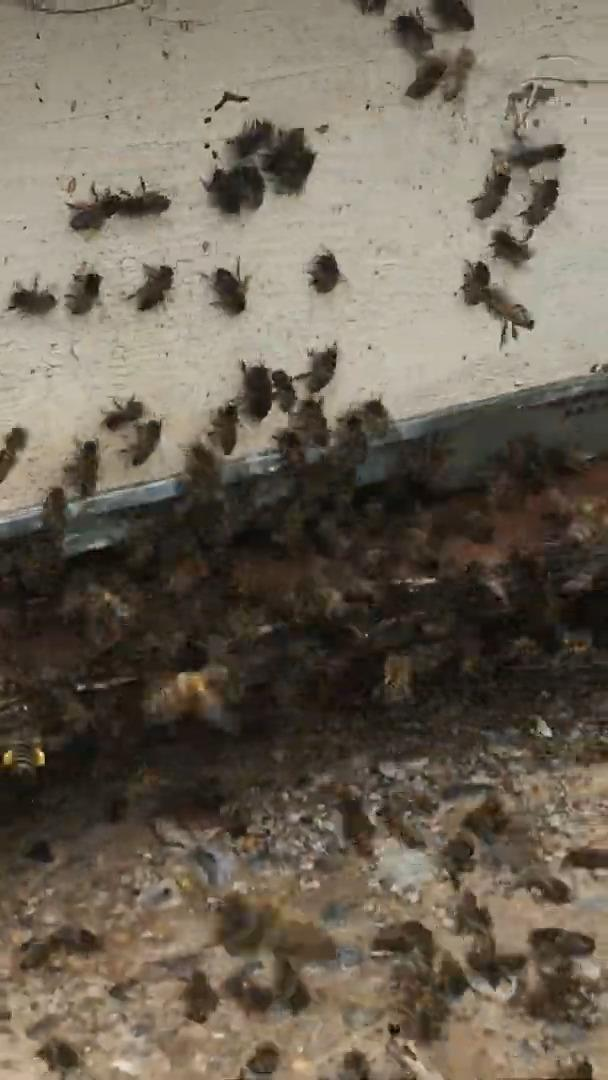worker-bee: (148, 663, 238, 733), (263, 128, 315, 193), (201, 162, 264, 213), (484, 285, 534, 346), (470, 160, 510, 219), (206, 259, 248, 315), (67, 183, 116, 230), (113, 177, 170, 216), (295, 342, 337, 393), (211, 258, 249, 314), (305, 246, 348, 294), (64, 439, 99, 497), (129, 264, 173, 310), (392, 9, 433, 56), (520, 178, 559, 227), (406, 53, 447, 99), (241, 361, 272, 421), (8, 276, 55, 315), (229, 119, 273, 159), (442, 46, 474, 100), (509, 138, 565, 168), (126, 418, 161, 466), (209, 401, 238, 455), (65, 271, 101, 314), (2, 740, 45, 776), (491, 228, 531, 266), (383, 653, 413, 703), (102, 395, 143, 431), (0, 428, 27, 482), (308, 251, 341, 293), (460, 260, 490, 305), (431, 0, 474, 31), (42, 486, 66, 536), (271, 369, 296, 413)
